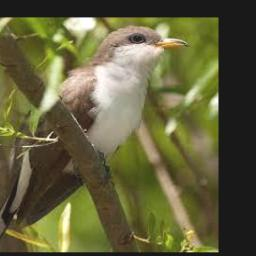Cuckoo: (0, 25, 189, 252)
